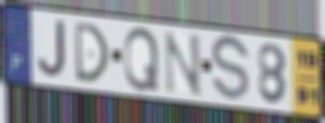8: (256, 43, 287, 106)
D: (73, 21, 111, 84)
J: (36, 19, 67, 81)
N: (163, 30, 204, 99)
Q: (122, 25, 160, 93)
S: (210, 33, 252, 105)
